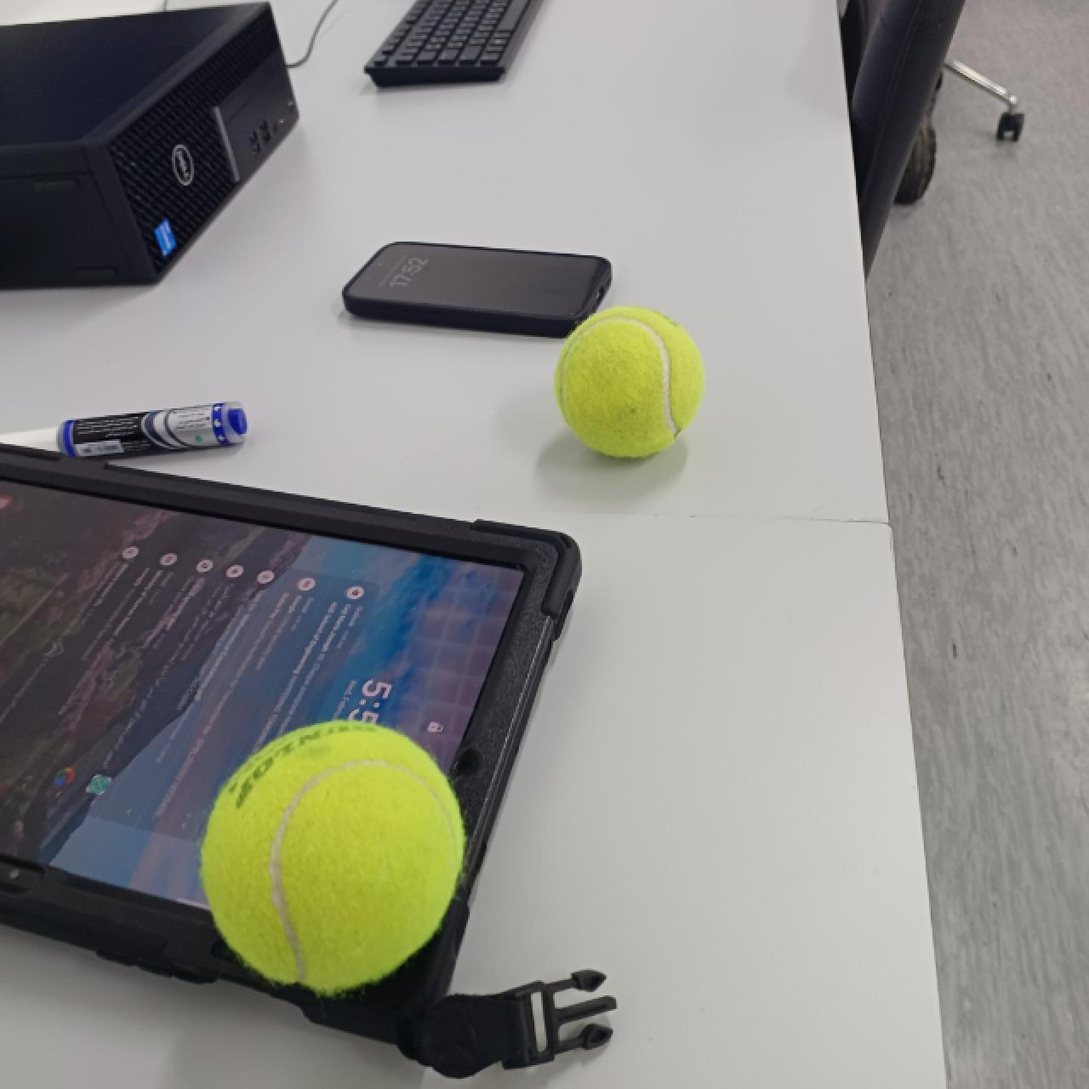tennis-ball: (202, 719, 465, 993), (557, 301, 702, 461)
